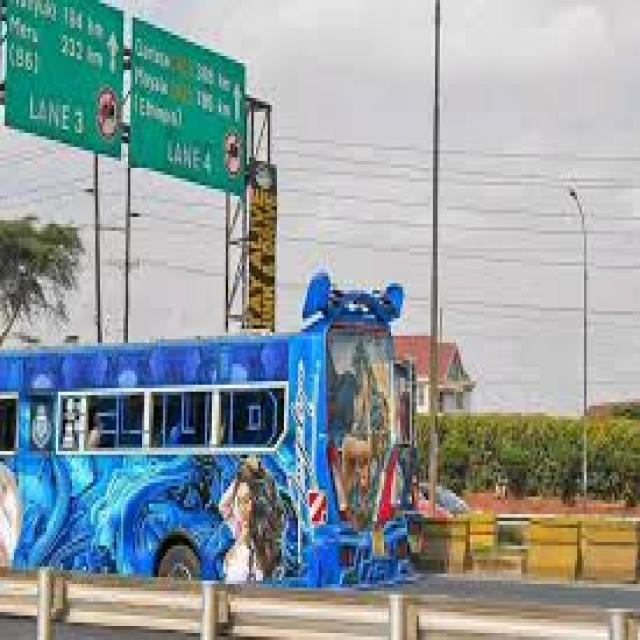bus: (2, 223, 432, 608)
